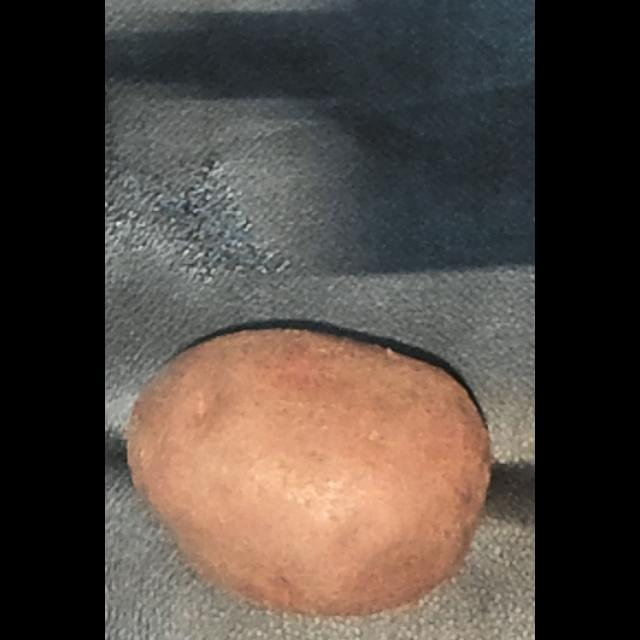Diseased-fungal potato: (120, 319, 498, 625)
